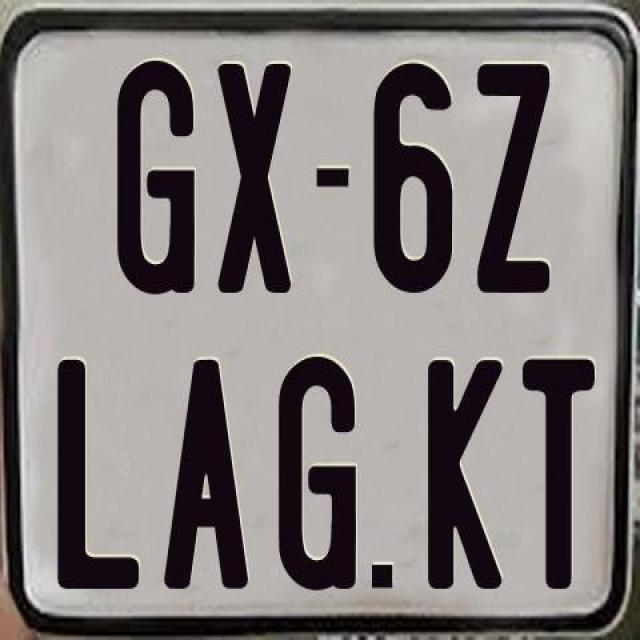6: (373, 62, 460, 293)
A: (164, 356, 254, 594)
G: (277, 356, 360, 598), (117, 59, 200, 293)
K: (426, 357, 504, 592)
L: (54, 358, 140, 590)
T: (518, 357, 590, 597)
X: (214, 62, 294, 298)
Z: (474, 62, 554, 301)
